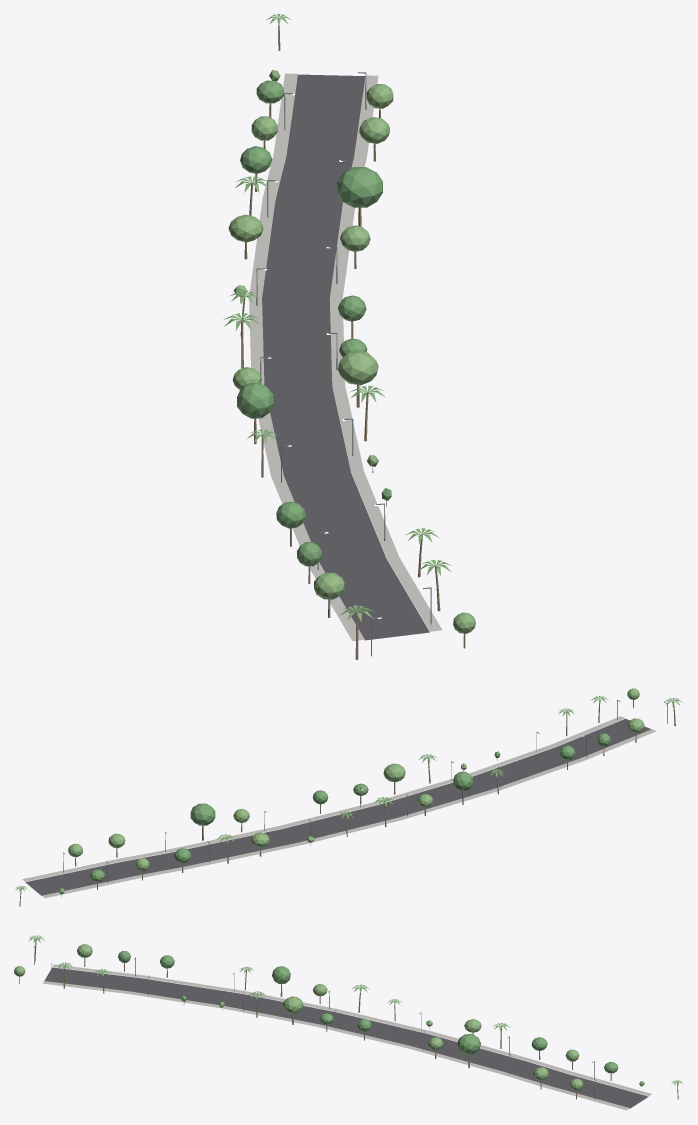
The model's file is tile_-1_-9.glb.
3 views of the same model, one above another, from view 1: azimuth 30°, elevation 25°; view 2: azimuth 150°, elevation 25°; view 3: azimuth 270°, elevation 25° (orthographic). The views are drawn at different scales.
Visible parts, largest first — view 1: roads_asphalt, roads_sidewalk, nature_foliage_b, nature_foliage_a, nature_palm_leaf, nature_trunk, nature_lamp_pole; view 2: roads_asphalt, roads_sidewalk, nature_foliage_b, nature_foliage_a, nature_trunk, nature_palm_leaf, nature_lamp_pole; view 3: roads_asphalt, roads_sidewalk, nature_foliage_b, nature_foliage_a, nature_palm_leaf, nature_trunk, nature_lamp_pole.
Boxes of the visible parts, x1,y1,x2,y2 form: roads_asphalt: (262,74,429,640); roads_sidewalk: (249,73,441,640); nature_foliage_b: (228,70,475,633); nature_foliage_a: (237,80,391,566); nature_palm_leaf: (223,14,451,622); nature_trunk: (240,25,465,659); nature_lamp_pole: (256,72,431,656); roads_asphalt: (25,718,650,895); roads_sidewalk: (22,716,656,898); nature_foliage_b: (59,688,644,894); nature_foliage_a: (90,733,610,881); nature_trunk: (19,700,675,906); nature_palm_leaf: (15,696,682,891); nature_lamp_pole: (63,700,667,882); roads_asphalt: (44,967,648,1108); roads_sidewalk: (42,964,651,1110); nature_foliage_b: (14,944,644,1090); nature_foliage_a: (118,951,618,1073); nature_palm_leaf: (28,935,682,1085); nature_trunk: (19,939,678,1099); nature_lamp_pole: (33,946,596,1099).
Size of the model in its own units: 112 by 11.29 by 207.
